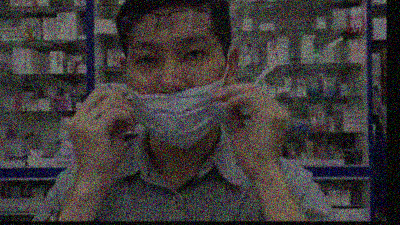mask_weared_incorrect: (123, 33, 226, 150)
